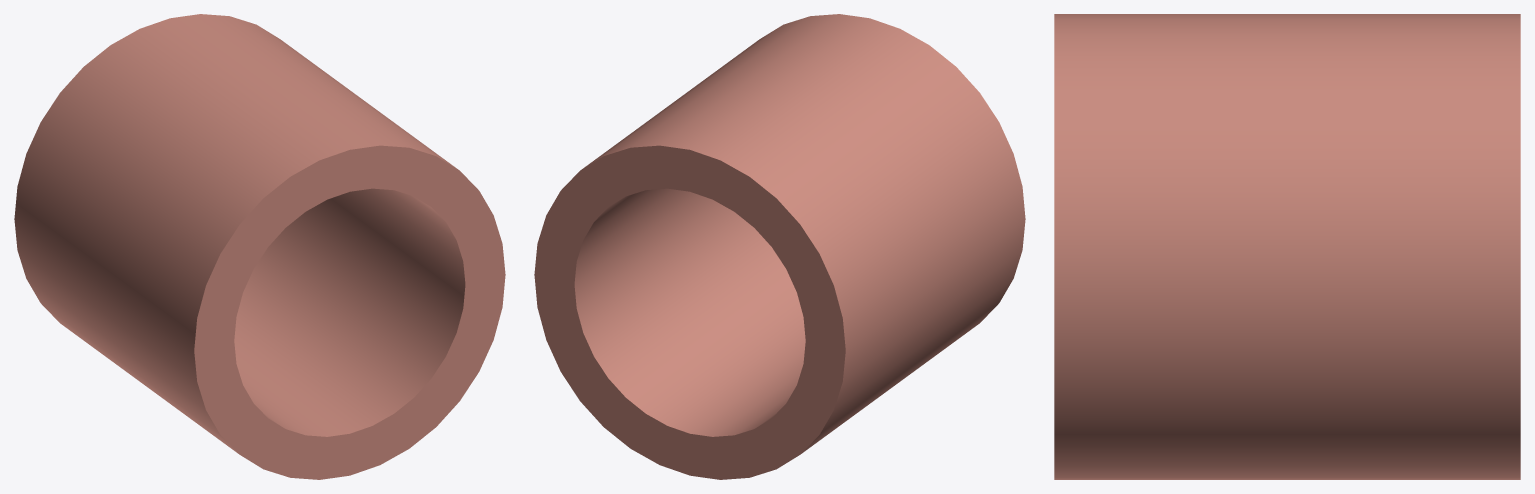
File: BasicPipeShape01.fbx
3 views of the same model, side by side, from view 1: azimuth 30°, elevation 25°; view 2: azimuth 150°, elevation 25°; view 3: azimuth 270°, elevation 25° (orthographic). The views are drawn at different scales.
Parts seen in each view (by area): view 1: BasicPipeShape01.001; view 2: BasicPipeShape01.001; view 3: BasicPipeShape01.001.
Part boxes in pixels (left/top/right/bottom): BasicPipeShape01.001: left=14, top=14, right=505, bottom=479; BasicPipeShape01.001: left=534, top=14, right=1025, bottom=479; BasicPipeShape01.001: left=1054, top=14, right=1520, bottom=479.
Bounding box in the file's own units: 200 × 200 × 200.
